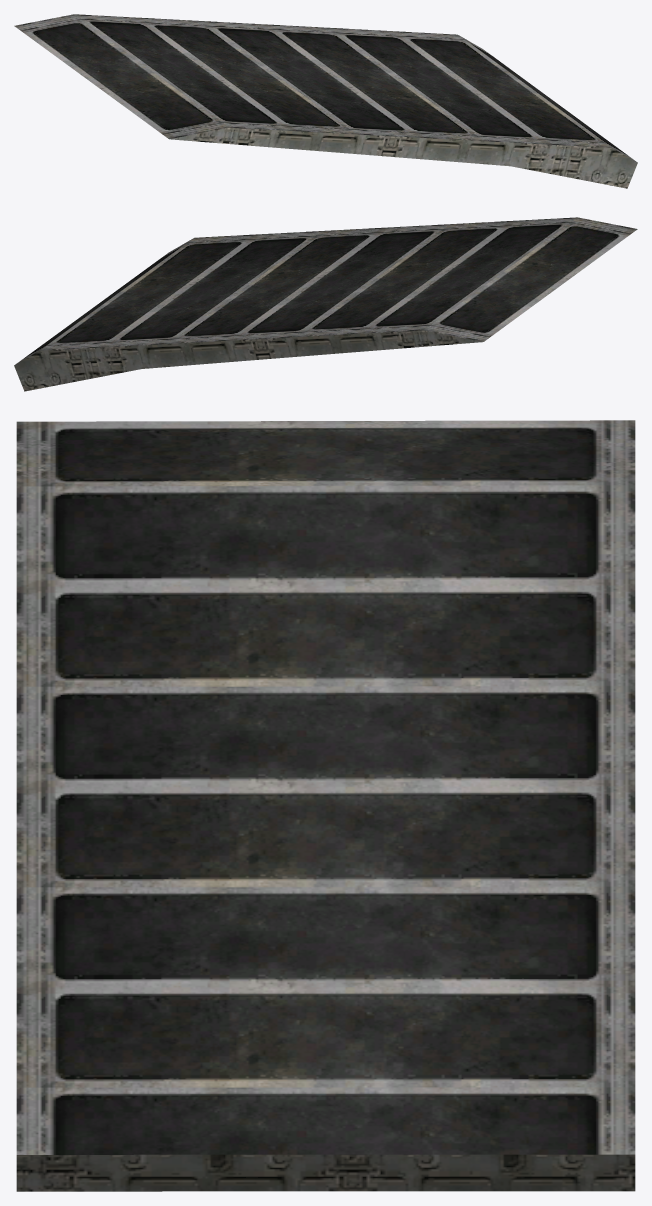
The model's file is transport_door_l0.fbx.
3 views of the same model, one above another, from view 1: azimuth 30°, elevation 25°; view 2: azimuth 150°, elevation 25°; view 3: azimuth 270°, elevation 25° (orthographic). The views are drawn at different scales.
Visible parts, largest first — view 1: mesh_node; view 2: mesh_node; view 3: mesh_node.
Part boxes in pixels (x1=…): mesh_node: x1=14, y1=14, x2=637, y2=188; mesh_node: x1=14, y1=217, x2=637, y2=391; mesh_node: x1=16, y1=420, x2=635, y2=1191.
Bounding box in the file's own units: 3.61 × 1.19 × 2.06.
